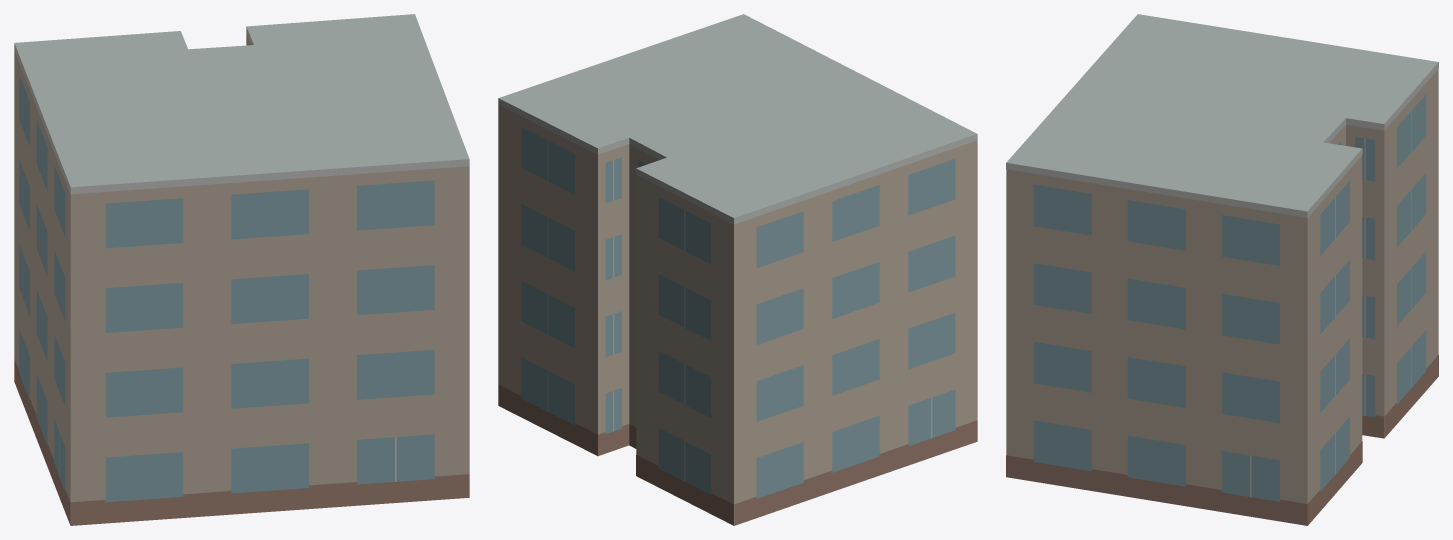
The model's file is survey-upis-32872711.glb.
The picture shows the model from 3 angles, left to right: view 1: azimuth 30°, elevation 25°; view 2: azimuth 150°, elevation 25°; view 3: azimuth 270°, elevation 25°; orthographic projection. The views are drawn at different scales.
Visible parts, largest first — view 1: survey-upis-32872711.tmp; view 2: survey-upis-32872711.tmp; view 3: survey-upis-32872711.tmp.
Boxes of the visible parts, box(x1,y1,x2,y2) form: survey-upis-32872711.tmp: box(14, 14, 469, 525); survey-upis-32872711.tmp: box(498, 14, 977, 525); survey-upis-32872711.tmp: box(1006, 14, 1438, 525).
Size of the model in its own units: 15.77 by 11.7 by 14.6.
